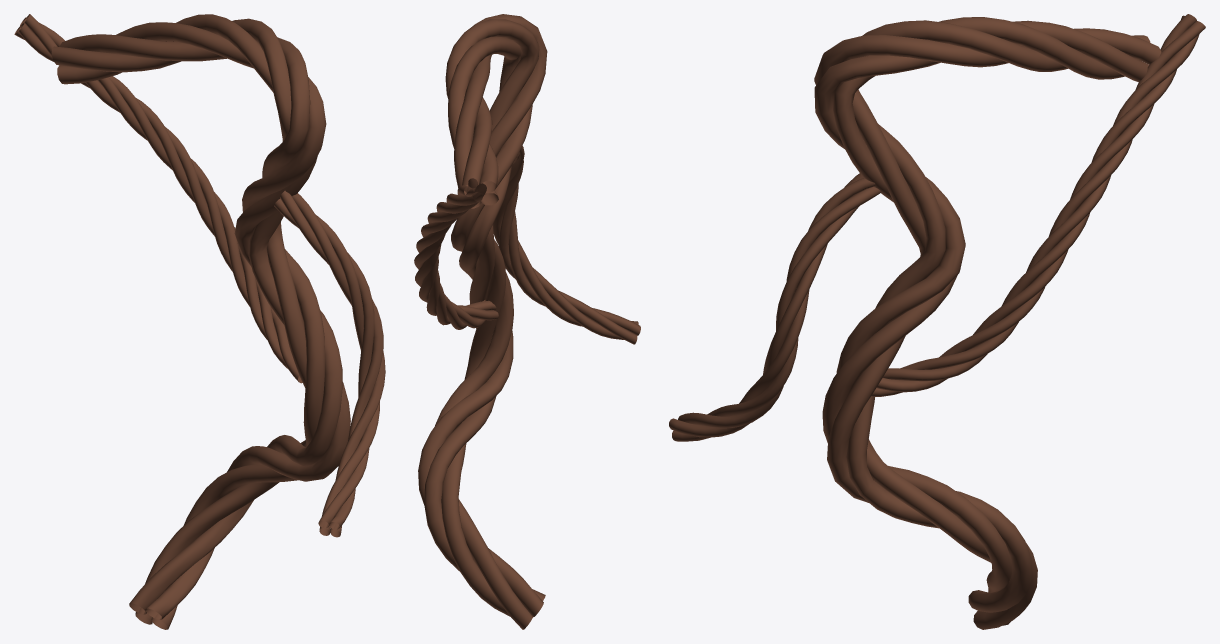
File: Racine mur 3.fbx
The picture shows the model from 3 angles, left to right: view 1: azimuth 30°, elevation 25°; view 2: azimuth 150°, elevation 25°; view 3: azimuth 270°, elevation 25°; orthographic projection. The views are drawn at different scales.
Visible parts, largest first — view 1: Cercle, Cercle.002, Cercle.001; view 2: Cercle, Cercle.002, Cercle.001; view 3: Cercle, Cercle.001, Cercle.002.
Part boxes in pixels (x1,y1,x2,y2): Cercle: (51, 14, 350, 629); Cercle.002: (274, 190, 385, 537); Cercle.001: (14, 14, 302, 383); Cercle: (418, 14, 547, 629); Cercle.002: (493, 145, 640, 344); Cercle.001: (414, 178, 498, 329); Cercle: (814, 17, 1161, 629); Cercle.001: (871, 14, 1205, 396); Cercle.002: (669, 173, 881, 441).
Bounding box in the file's own units: 628 × 2036 × 1531.
